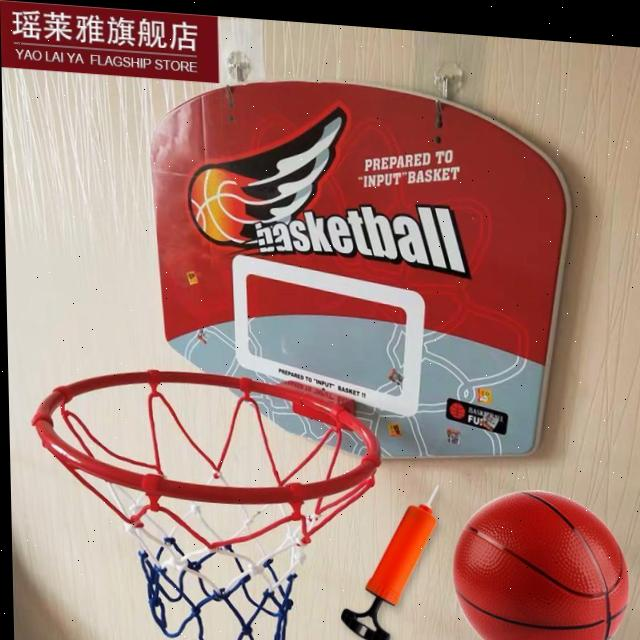basketball: (452, 484, 631, 640)
hoop: (34, 362, 385, 640)
